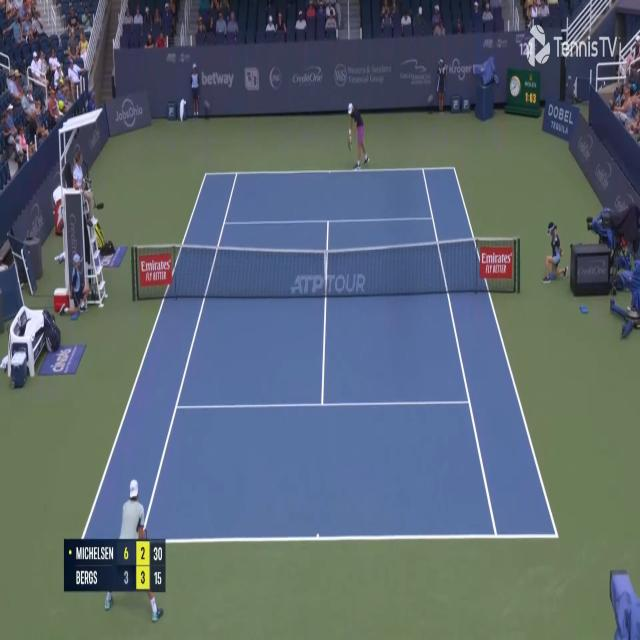tennis-player: (126, 476, 165, 624), (345, 99, 372, 171)
